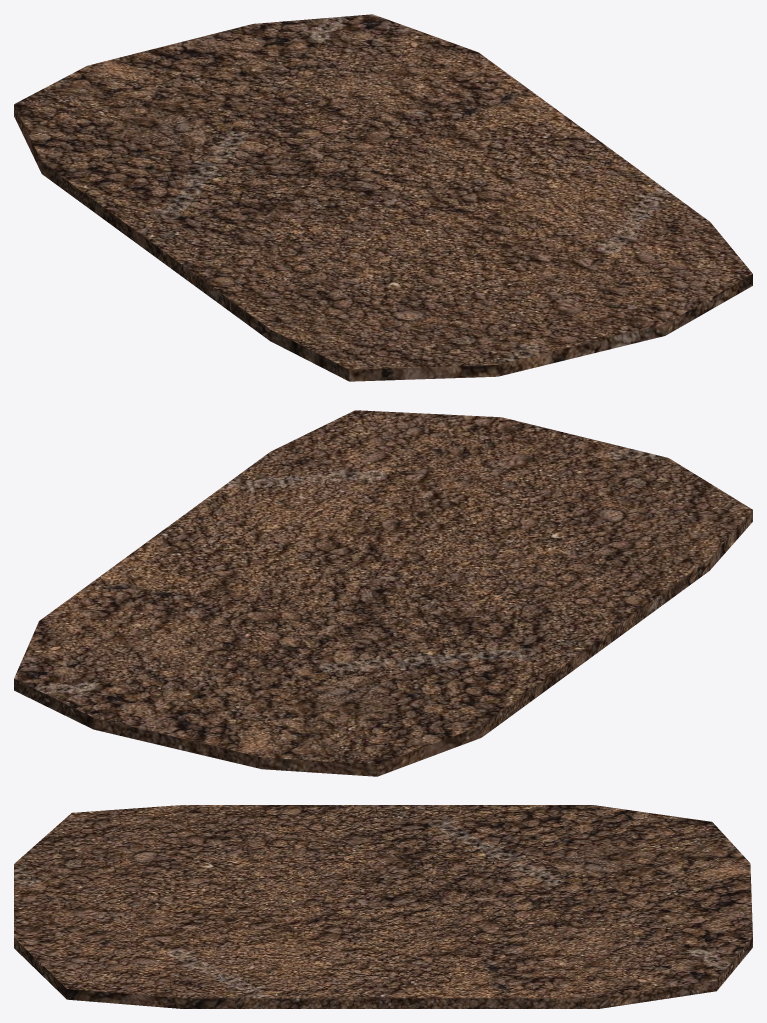
File: ROOM_FLOOR.fbx
3 views of the same model, one above another, from view 1: azimuth 30°, elevation 25°; view 2: azimuth 150°, elevation 25°; view 3: azimuth 270°, elevation 25° (orthographic). The views are drawn at different scales.
Parts seen in each view (by area): view 1: Cube; view 2: Cube; view 3: Cube.
Part boxes in pixels (left/top/right/bottom): Cube: left=14, top=14, right=752, bottom=381; Cube: left=14, top=410, right=752, bottom=776; Cube: left=14, top=805, right=752, bottom=1008.
Size of the model in its own units: 2807 by 72.49 by 4535.
